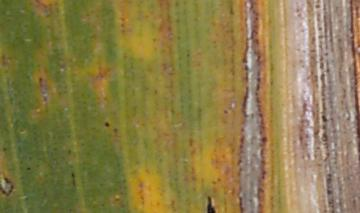tarspot: (204, 193, 216, 213), (320, 114, 328, 123), (103, 119, 110, 129), (222, 108, 229, 116), (24, 166, 31, 172)
